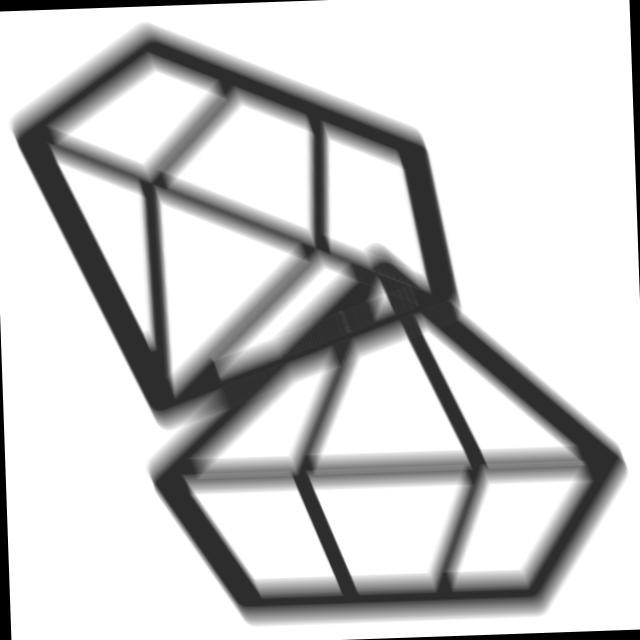diamond: (130, 233, 633, 638), (3, 6, 469, 443)
